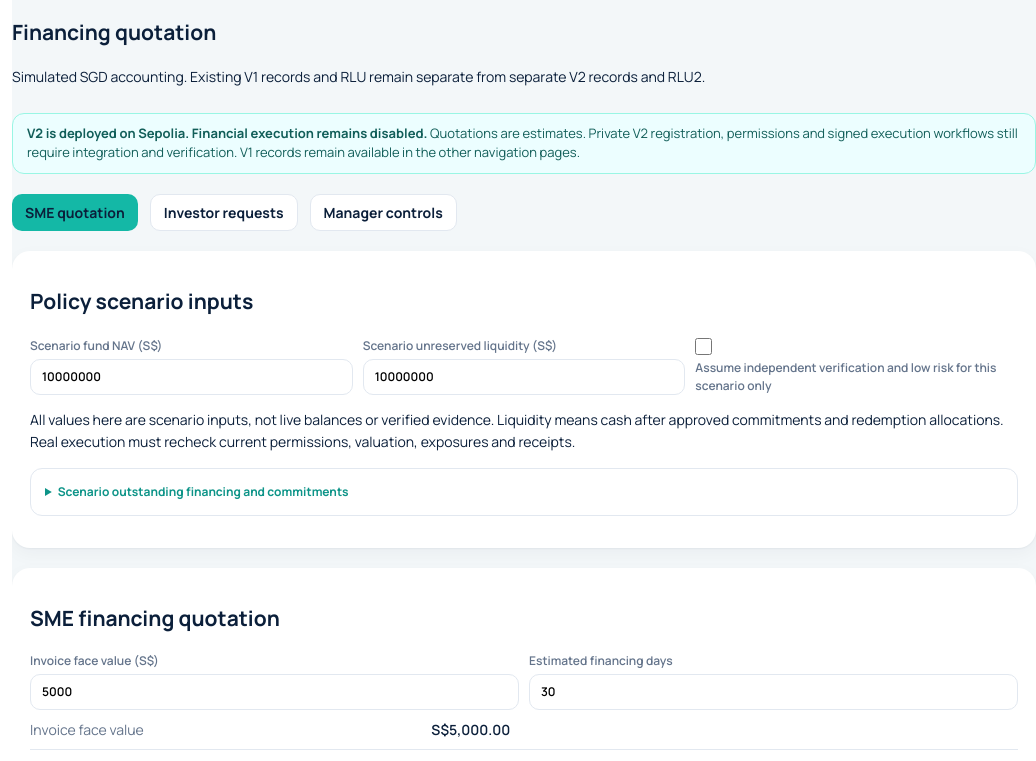
Test: isolated V2 preview › keeps request controls disabled and does not invent holdings or request history
This screenshot has width=1036, height=761.
Click the button "Investor requests" at {"x": 224, "y": 212}, box [150, 194, 298, 231]
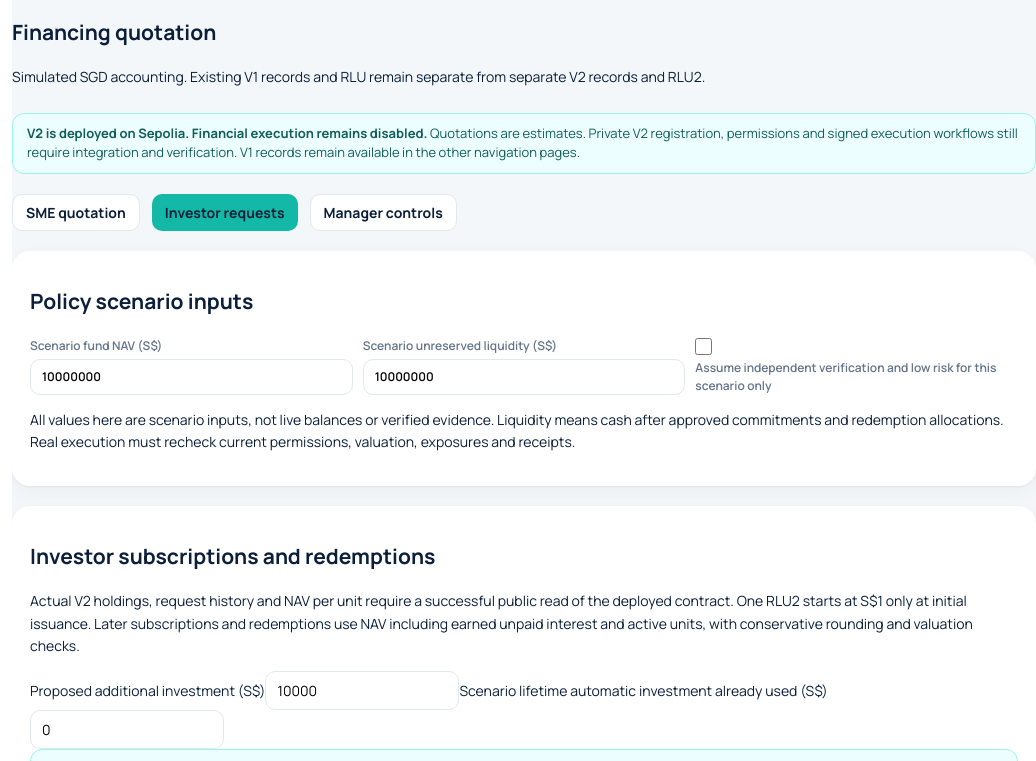
expect the text "Actual V2 holdings, request history and NAV per unit require" is shown: met, box [30, 591, 973, 655]
